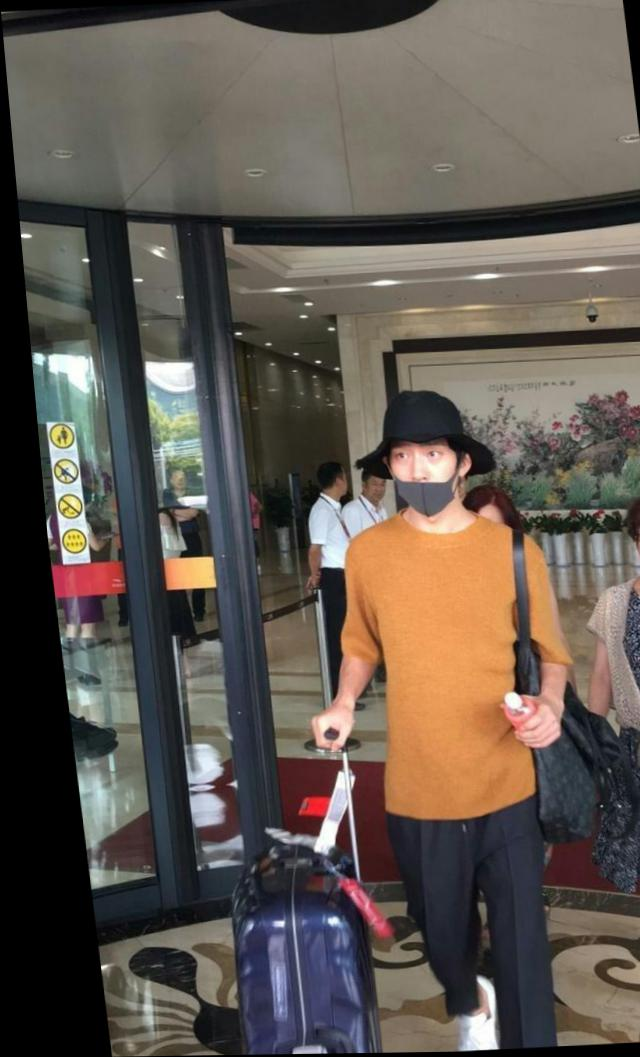NONE: (623, 522, 640, 578), (354, 478, 381, 503), (165, 475, 179, 489)
WRONG: (375, 433, 467, 520)
